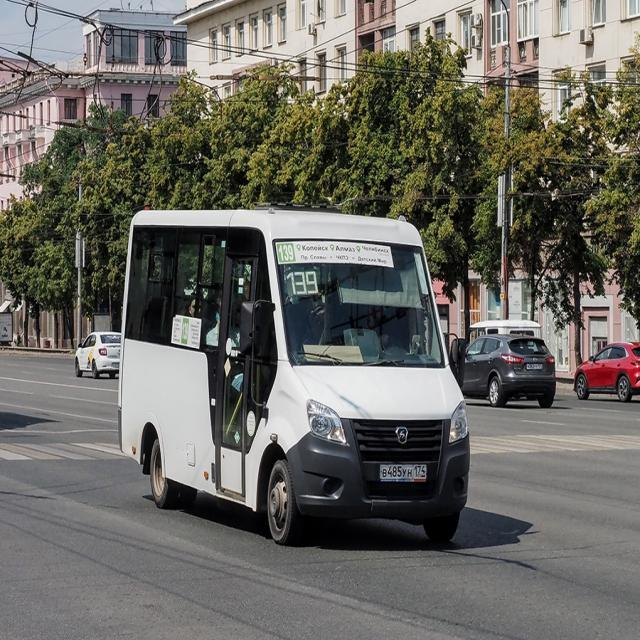number-of-bus: (286, 270, 320, 296), (277, 242, 296, 264)
